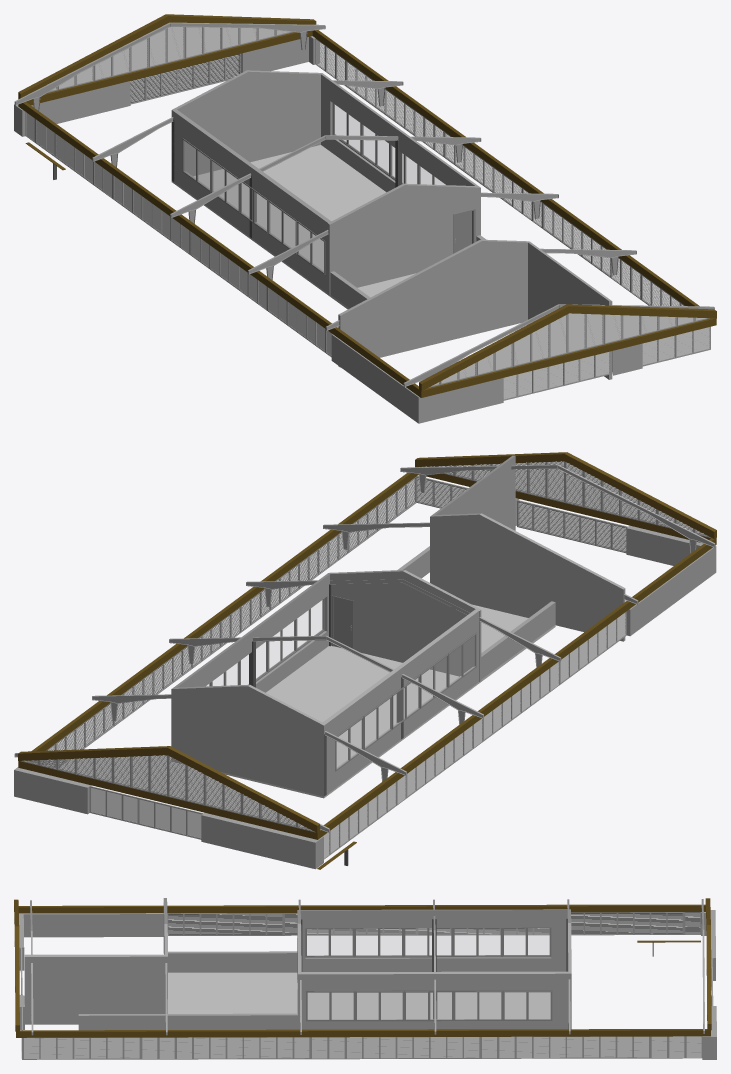
Rendered from floor1.glb.
The picture shows the model from 3 angles, top to bottom: view 1: azimuth 30°, elevation 25°; view 2: azimuth 150°, elevation 25°; view 3: azimuth 270°, elevation 25°; orthographic projection. The views are drawn at different scales.
Parts seen in each view (by area): view 1: IfcBuildingElementProxy/P19.001, IfcBuildingElementProxy/Parede-031.002, IfcBuildingElementProxy/Parede-035.002, IfcBuildingElementProxy/Parede-033.001, IfcWallStandardCase/Parede-058.002, IfcSlab/L12.001, IfcBuildingElementProxy/Objeto-0004.008, IfcBuildingElementProxy/Parede-032.002, IfcBuildingElementProxy/J21.001, IfcBuildingElementProxy/J21.002, IfcBuildingElementProxy/Parede-034.005, IfcBuildingElementProxy/Viga-010 (+19 smaller); view 2: IfcBuildingElementProxy/P19.001, IfcBuildingElementProxy/Parede-031.002, IfcBuildingElementProxy/Parede-033.001, IfcWallStandardCase/Parede-058.002, IfcBuildingElementProxy/Parede-035.002, IfcSlab/L12.001, IfcBuildingElementProxy/Objeto-0004.008, IfcBuildingElementProxy/Parede-032.002, IfcBuildingElementProxy/J21.002, IfcBuildingElementProxy/J21.001, IfcBuildingElementProxy/Parede-034.005, IfcBuildingElementProxy/Viga-010 (+19 smaller); view 3: IfcBuildingElementProxy/P19.001, IfcSlab/L12.001, IfcBuildingElementProxy/Parede-032.002, IfcBuildingElementProxy/Parede-032.001, IfcBuildingElementProxy/Parede-034.005, IfcBuildingElementProxy/Viga-008, IfcWallStandardCase/Parede-058.002, IfcBuildingElementProxy/Viga-010, IfcBuildingElementProxy/Parede-035.001, IfcBuildingElementProxy/Parede-034.004, IfcBuildingElementProxy/J26.007, IfcBuildingElementProxy/J26.006 (+16 smaller).
Part boxes in pixels (x1,y1,x2,y2): IfcBuildingElementProxy/P19.001: (25, 31, 710, 400); IfcBuildingElementProxy/Parede-031.002: (338, 239, 528, 367); IfcBuildingElementProxy/Parede-035.002: (328, 183, 480, 294); IfcBuildingElementProxy/Parede-033.001: (172, 70, 321, 176); IfcWallStandardCase/Parede-058.002: (14, 36, 642, 423); IfcSlab/L12.001: (171, 145, 415, 309); IfcBuildingElementProxy/Objeto-0004.008: (14, 22, 714, 386); IfcBuildingElementProxy/Parede-032.002: (171, 109, 332, 293); IfcBuildingElementProxy/J21.001: (428, 313, 709, 387); IfcBuildingElementProxy/J21.002: (48, 27, 293, 92); IfcBuildingElementProxy/Parede-034.005: (321, 73, 479, 192); IfcBuildingElementProxy/Viga-010: (20, 102, 419, 396); IfcBuildingElementProxy/P19.001: (32, 474, 696, 859); IfcBuildingElementProxy/Parede-031.002: (430, 513, 625, 641); IfcBuildingElementProxy/Parede-033.001: (171, 684, 323, 796); IfcWallStandardCase/Parede-058.002: (14, 498, 716, 869); IfcBuildingElementProxy/Parede-035.002: (329, 570, 481, 681); IfcSlab/L12.001: (172, 604, 555, 798); IfcBuildingElementProxy/Objeto-0004.008: (14, 464, 715, 832); IfcBuildingElementProxy/Parede-032.002: (322, 608, 478, 794); IfcBuildingElementProxy/J21.002: (21, 755, 315, 832); IfcBuildingElementProxy/J21.001: (417, 461, 712, 538); IfcBuildingElementProxy/Parede-034.005: (172, 573, 329, 692); IfcBuildingElementProxy/Viga-010: (319, 538, 714, 837); IfcBuildingElementProxy/P19.001: (20, 908, 713, 1059); IfcSlab/L12.001: (168, 972, 550, 1019); IfcBuildingElementProxy/Parede-032.002: (297, 909, 570, 971); IfcBuildingElementProxy/Parede-032.001: (24, 954, 167, 1024); IfcBuildingElementProxy/Parede-034.005: (298, 971, 571, 1029); IfcBuildingElementProxy/Viga-008: (19, 1029, 710, 1037); IfcWallStandardCase/Parede-058.002: (19, 910, 716, 1059); IfcBuildingElementProxy/Viga-010: (18, 904, 705, 913); IfcBuildingElementProxy/Parede-035.001: (168, 951, 297, 972); IfcBuildingElementProxy/Parede-034.004: (168, 1013, 297, 1029); IfcBuildingElementProxy/J26.007: (355, 990, 404, 1021); IfcBuildingElementProxy/J26.006: (306, 991, 355, 1021).
Size of the model in its own units: 14.11 by 4.65 by 31.4.
